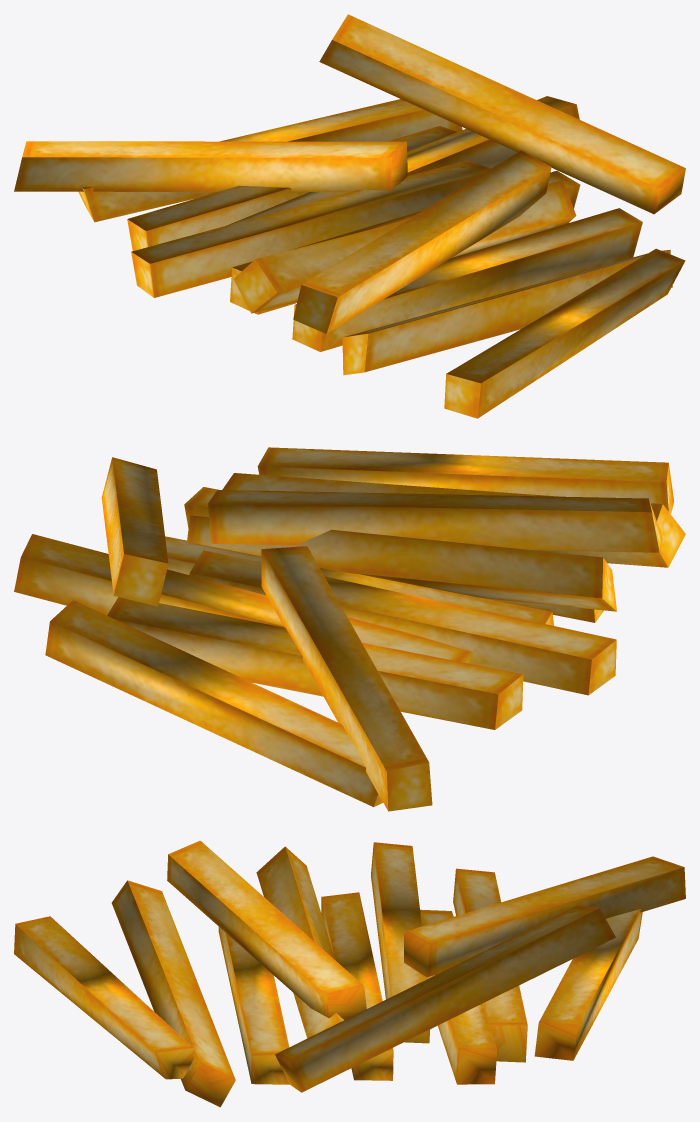
File: pack_french_fries_2.fbx
3 renders of one model, top to bottom at view 1: azimuth 30°, elevation 25°; view 2: azimuth 150°, elevation 25°; view 3: azimuth 270°, elevation 25°, orthographic. The views are drawn at different scales.
Parts seen in each view (by area): view 1: pack_french_fries_LOD00; view 2: pack_french_fries_LOD00; view 3: pack_french_fries_LOD00.
Boxes of the visible parts, box(x1,y1,x2,y2) form: pack_french_fries_LOD00: box(14, 14, 685, 418); pack_french_fries_LOD00: box(14, 447, 685, 811); pack_french_fries_LOD00: box(14, 840, 685, 1107).
Bounding box in the file's own units: 10.14 × 3.06 × 12.58.
